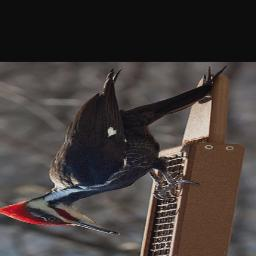Woodpecker: (0, 66, 228, 236)
